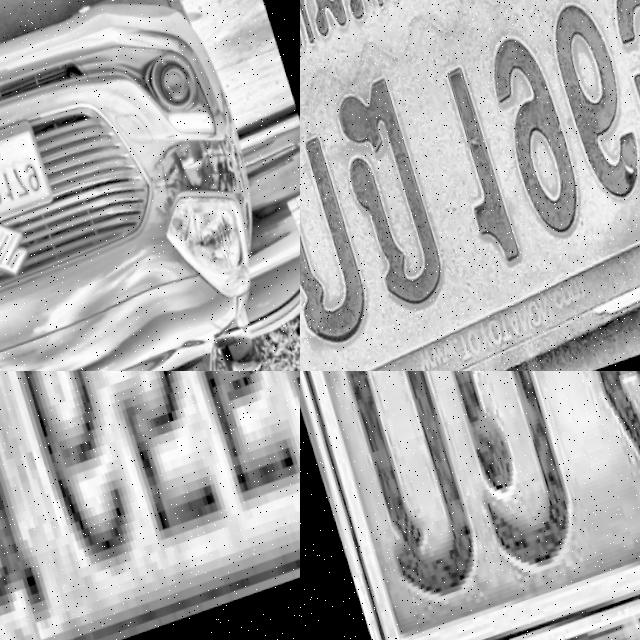license-plate: (300, 0, 640, 371), (300, 371, 640, 640), (0, 371, 300, 640), (0, 123, 51, 250)
